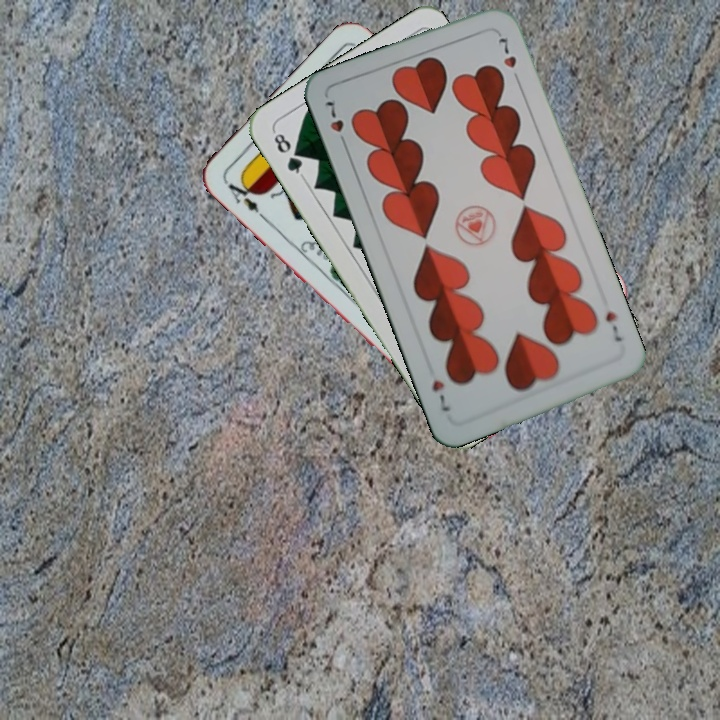EA: (221, 174, 268, 223)
G8: (269, 127, 307, 180)
H7: (320, 95, 350, 151), (601, 307, 625, 344)
